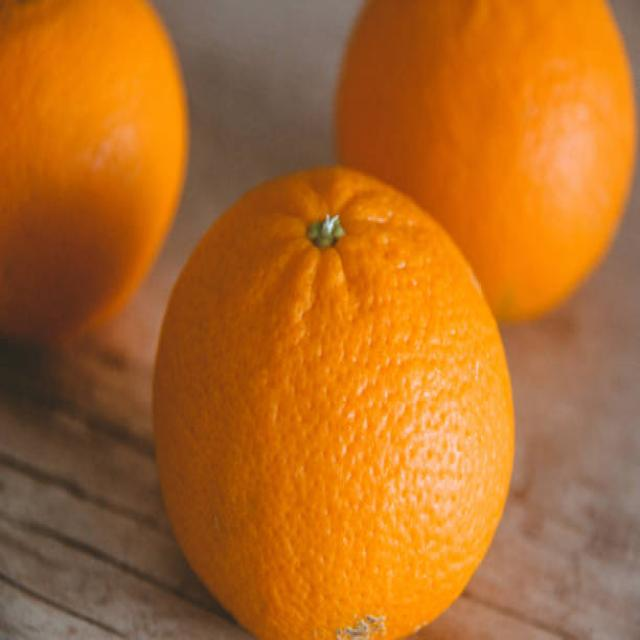Ripe: (146, 157, 520, 640)
